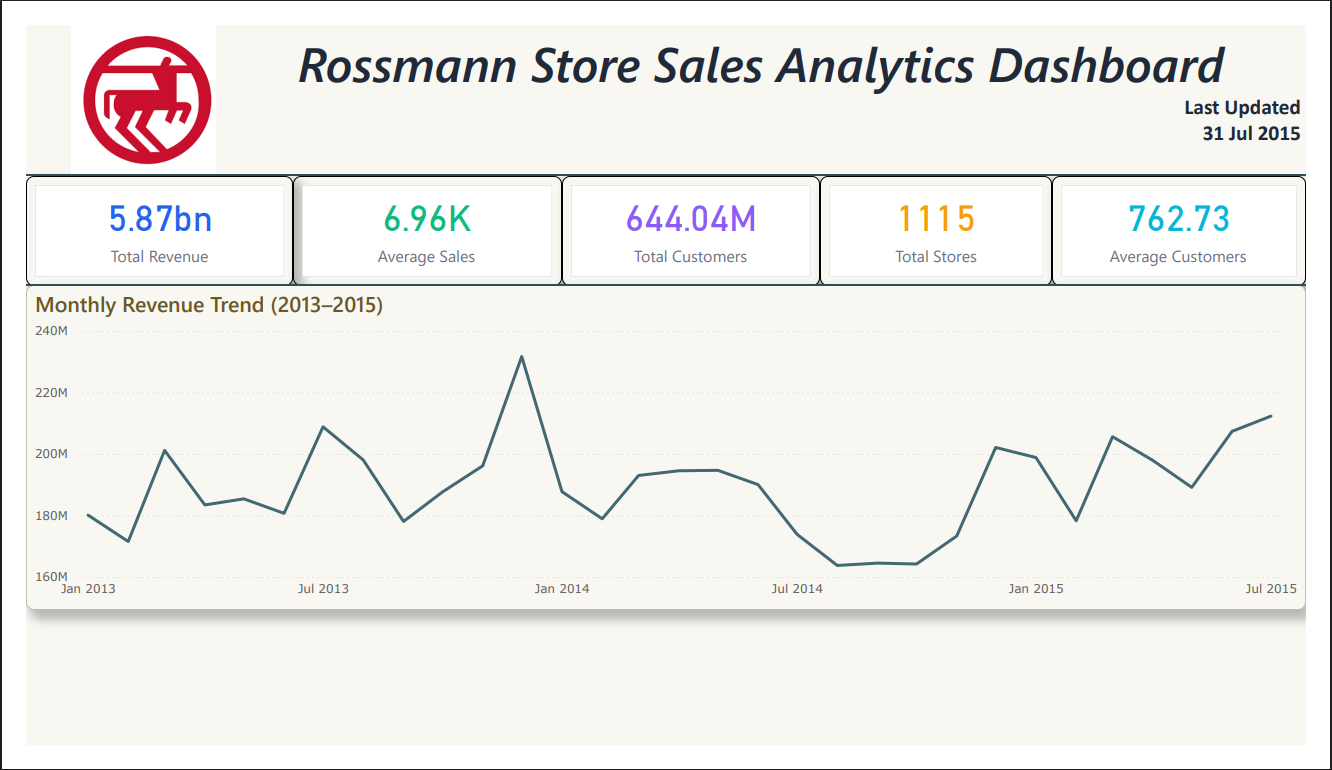

The dashboard page shown, as its layout file describes it:
{"tool":"powerbi","page":{"name":"Executive Overview","canvas":[1280,720],"ordinal":0},"visuals":[{"type":"advanceCardE03760C5AB684758B56AA29F9E6C257B","fields":{"mainMeasure":["rossmann_powerbi.Total Revenue"]},"box":[0,150.8,267.5,109.9],"z":0},{"type":"image","box":[0,0,239.3,150],"z":1000},{"type":"advanceCardE03760C5AB684758B56AA29F9E6C257B","fields":{"mainMeasure":["rossmann_powerbi.Average Sales"]},"box":[267.5,150.8,268.4,109.9],"z":2000},{"type":"advanceCardE03760C5AB684758B56AA29F9E6C257B","fields":{"mainMeasure":["rossmann_powerbi.Total Customers"]},"box":[535.9,150.8,257.8,109.9],"z":3000},{"type":"advanceCardE03760C5AB684758B56AA29F9E6C257B","fields":{"mainMeasure":["rossmann_powerbi.Total Stores"]},"box":[793.7,150.8,232.5,109.9],"z":4000},{"type":"advanceCardE03760C5AB684758B56AA29F9E6C257B","fields":{"mainMeasure":["rossmann_powerbi.Average Customers"],"tooltipMeasures":["rossmann_powerbi.Average Customers"]},"box":[1026.1,150.8,253.9,109.9],"z":5000},{"type":"textbox","box":[189.9,0,1090.1,150],"z":6000},{"type":"shape","box":[0,143.2,1280,13.8],"z":7000},{"type":"lineChart","title":"Monthly Revenue Trend (2013–2015)","fields":{"Y":["Sum(rossmann_powerbi.Sales)"],"Category":["rossmann_powerbi.Date.Variation.Date Hierarchy.Year","rossmann_powerbi.Date.Variation.Date Hierarchy.Quarter","rossmann_powerbi.Date.Variation.Date Hierarchy.Month","rossmann_powerbi.Date.Variation.Date Hierarchy.Day"]},"box":[0,260.4,1280.1,324.8],"z":8000},{"type":"shape","box":[0,252.7,1280,14.7],"z":9000}]}

Visuals, with their boxes in screenshot pixels (x1, y1, x2, y2), scaled from the page's 1280x720 canvas onto the 1332x770 screenshot:
advanceCardE03760C5AB684758B56AA29F9E6C257B - rossmann_powerbi.Total Revenue: crop(0, 161, 278, 279)
image: crop(0, 0, 249, 160)
advanceCardE03760C5AB684758B56AA29F9E6C257B - rossmann_powerbi.Average Sales: crop(278, 161, 558, 279)
advanceCardE03760C5AB684758B56AA29F9E6C257B - rossmann_powerbi.Total Customers: crop(558, 161, 826, 279)
advanceCardE03760C5AB684758B56AA29F9E6C257B - rossmann_powerbi.Total Stores: crop(826, 161, 1068, 279)
advanceCardE03760C5AB684758B56AA29F9E6C257B - rossmann_powerbi.Average Customers x rossmann_powerbi.Average Customers: crop(1068, 161, 1331, 279)
textbox: crop(198, 0, 1331, 160)
shape: crop(0, 153, 1331, 168)
"Monthly Revenue Trend (2013–2015)" lineChart: crop(0, 278, 1331, 626)
shape: crop(0, 270, 1331, 286)
